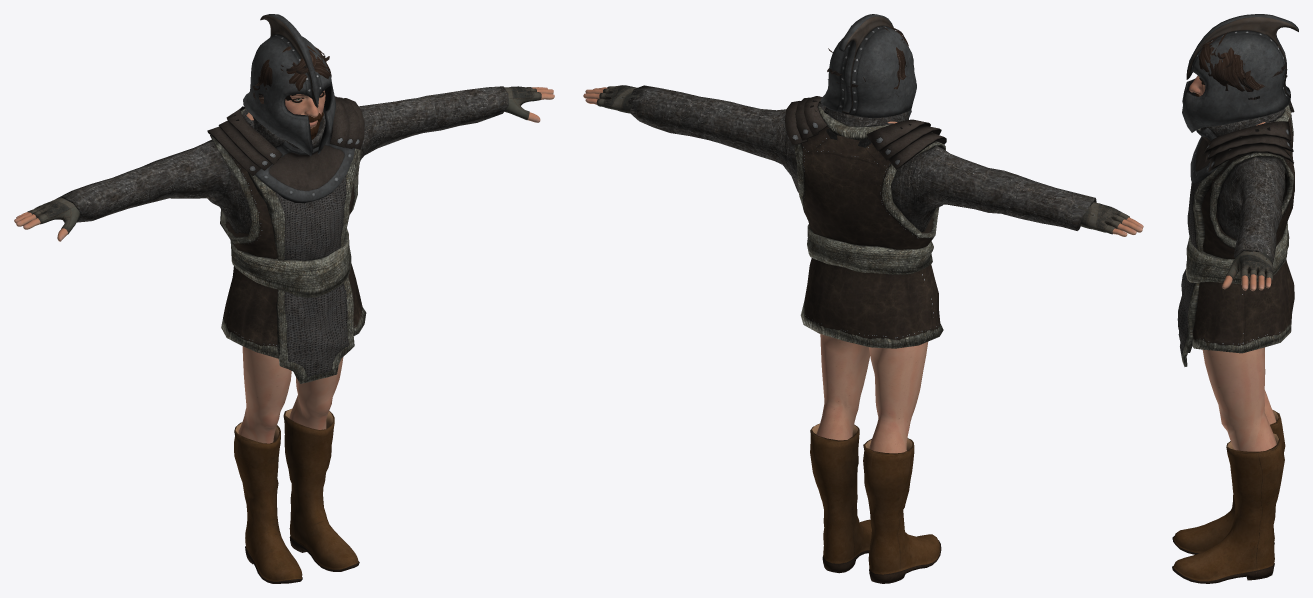
File: Enemy.obj
The picture shows the model from 3 angles, left to right: view 1: azimuth 30°, elevation 25°; view 2: azimuth 150°, elevation 25°; view 3: azimuth 270°, elevation 25°; orthographic projection. The views are drawn at different scales.
Visible parts, largest first — view 1: Tops, Shoes, Body, Hats, Gloves, Hair; view 2: Tops, Shoes, Body, Hats, Gloves; view 3: Tops, Shoes, Hats, Body, Hair, Gloves.
Part boxes in pixels (x1=…): Tops: x1=58, y1=86, x2=508, y2=383; Shoes: x1=234, y1=409, x2=359, y2=583; Body: x1=14, y1=87, x2=554, y2=443; Hats: x1=243, y1=14, x2=335, y2=156; Gloves: x1=27, y1=86, x2=541, y2=234; Hair: x1=250, y1=45, x2=331, y2=103; Tops: x1=628, y1=85, x2=1096, y2=348; Shoes: x1=810, y1=423, x2=941, y2=583; Body: x1=583, y1=87, x2=1143, y2=453; Hats: x1=820, y1=14, x2=916, y2=118; Gloves: x1=596, y1=85, x2=1129, y2=234; Tops: x1=1177, y1=101, x2=1294, y2=366; Shoes: x1=1172, y1=410, x2=1285, y2=583; Hats: x1=1182, y1=14, x2=1298, y2=132; Body: x1=1189, y1=76, x2=1276, y2=451; Hair: x1=1199, y1=32, x2=1287, y2=99; Gloves: x1=1225, y1=247, x2=1273, y2=281.
Size of the model in its own units: 200 by 190 by 39.86.
8 materials, 8 textured.
